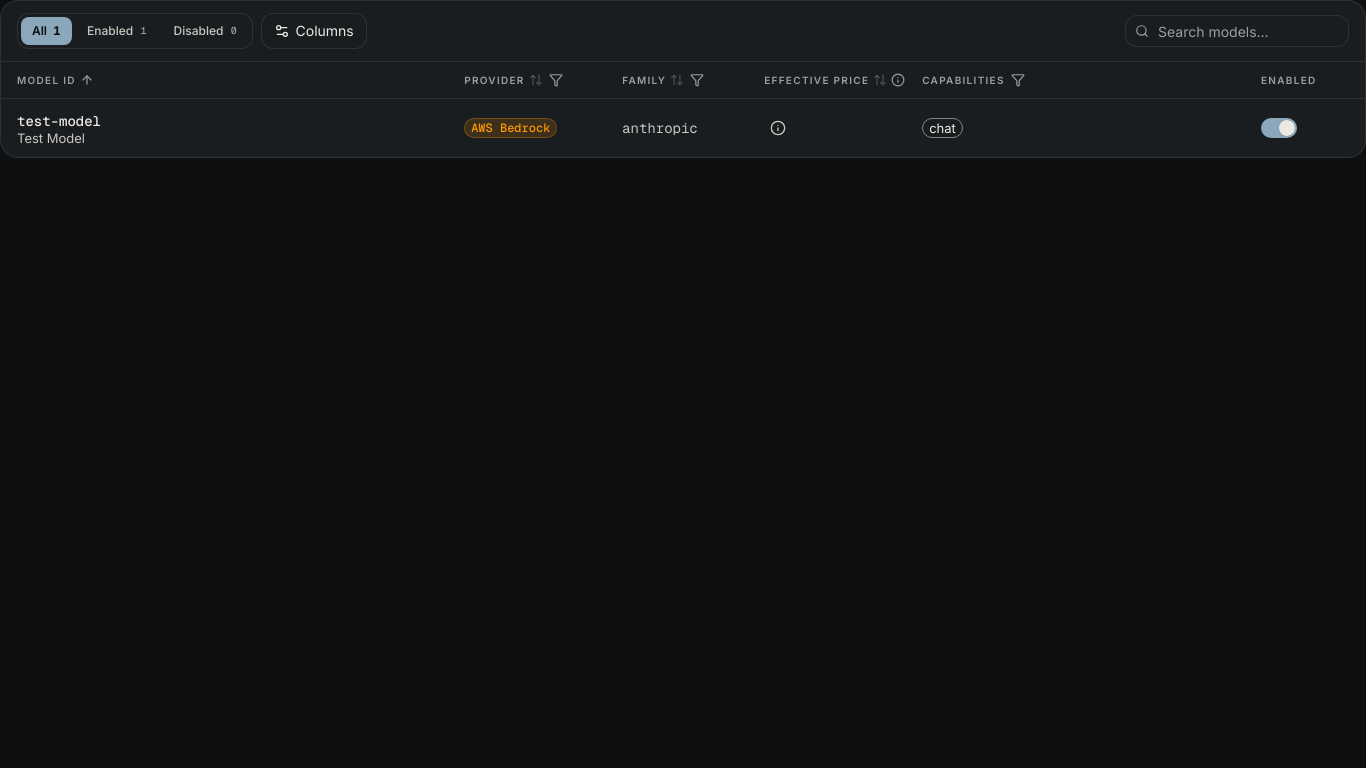
Test: NonTokenPricingRows › renders image input row when synced_image_input_cost_per_image is set
This screenshot has width=1366, height=768.
Note: Open the detail overlay by clicking the row.
Click the text "test-model" at (59, 122), box [17, 111, 101, 132]
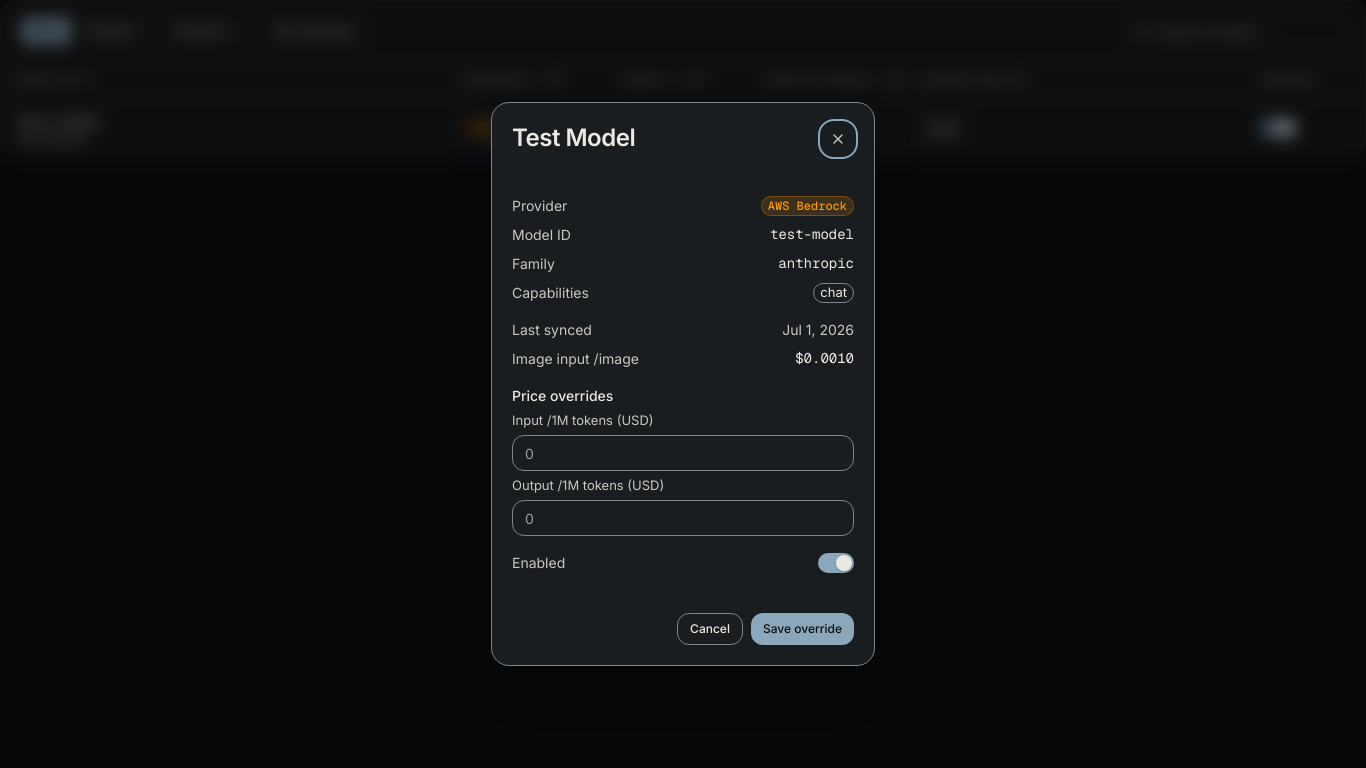
Now the text "Image input /image" is shown, box [512, 348, 639, 369]
